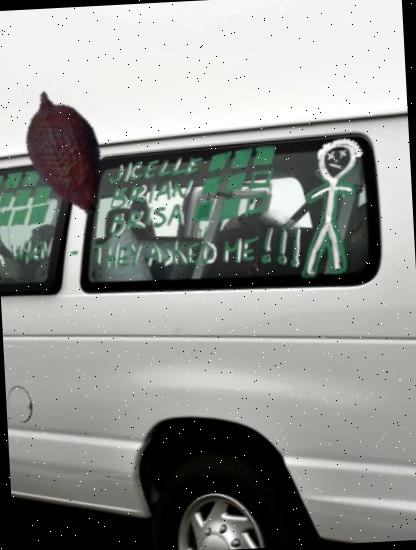Salak: (0, 82, 136, 222)
